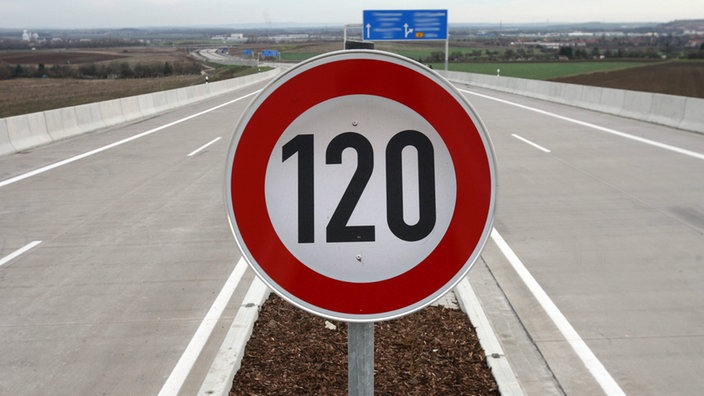Speed_limit_120km: (223, 49, 500, 324)
